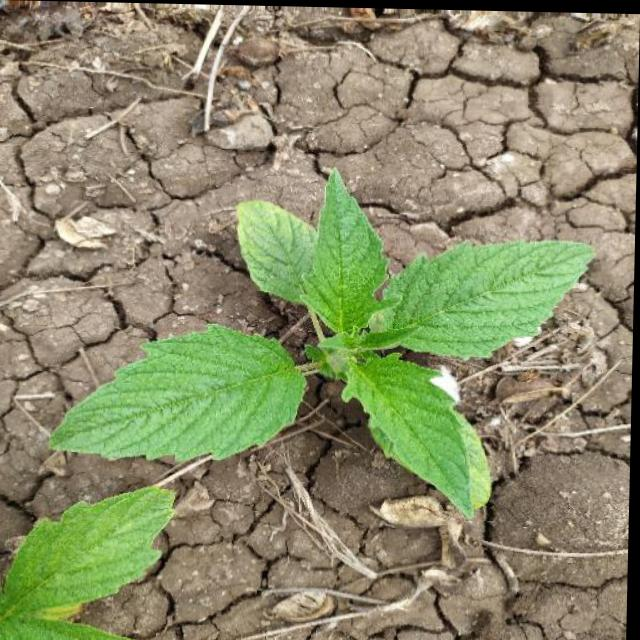crop: (46, 179, 591, 524)
